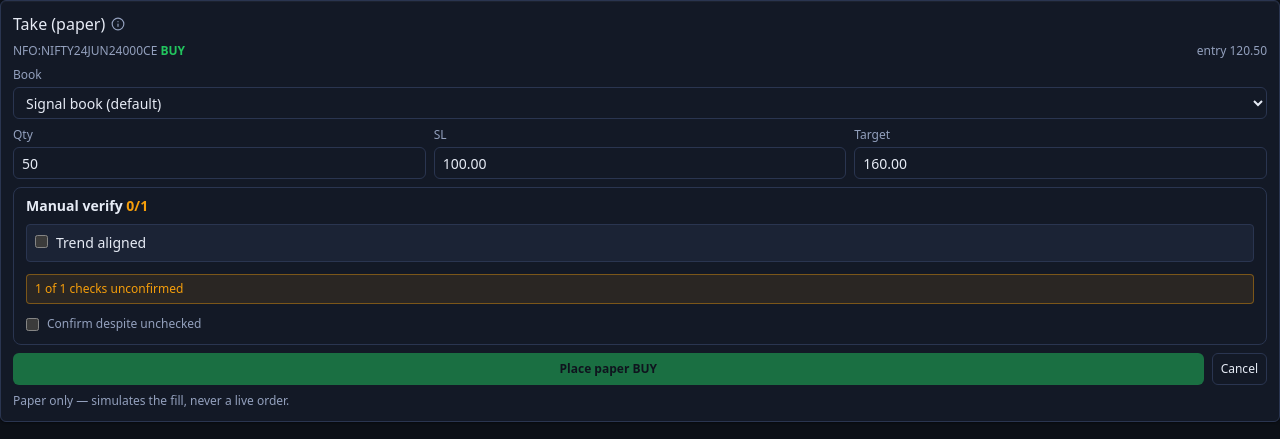
Test: SignalTakeTicket › gates Place behind the manual-verify checklist for a scalper signal
Expected: the button "Place paper BUY" is disabled, 13,353 -> 1204,385
// Tick the single manual check → Place enabled.
Click the checkbox labelled "Trend aligned" at (42, 242), box 35,235 -> 48,248
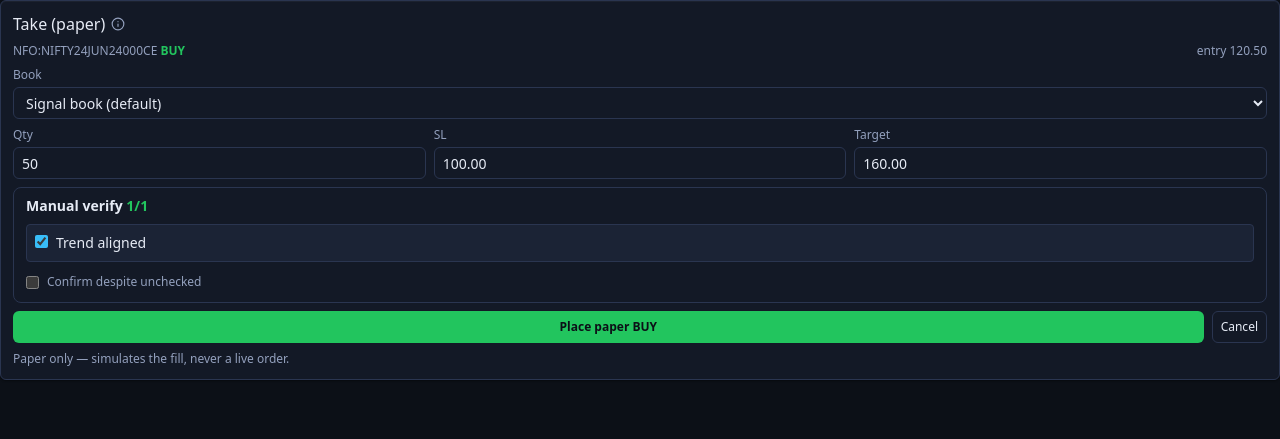
Result: the button "Place paper BUY" is enabled at 13,311 -> 1204,343
